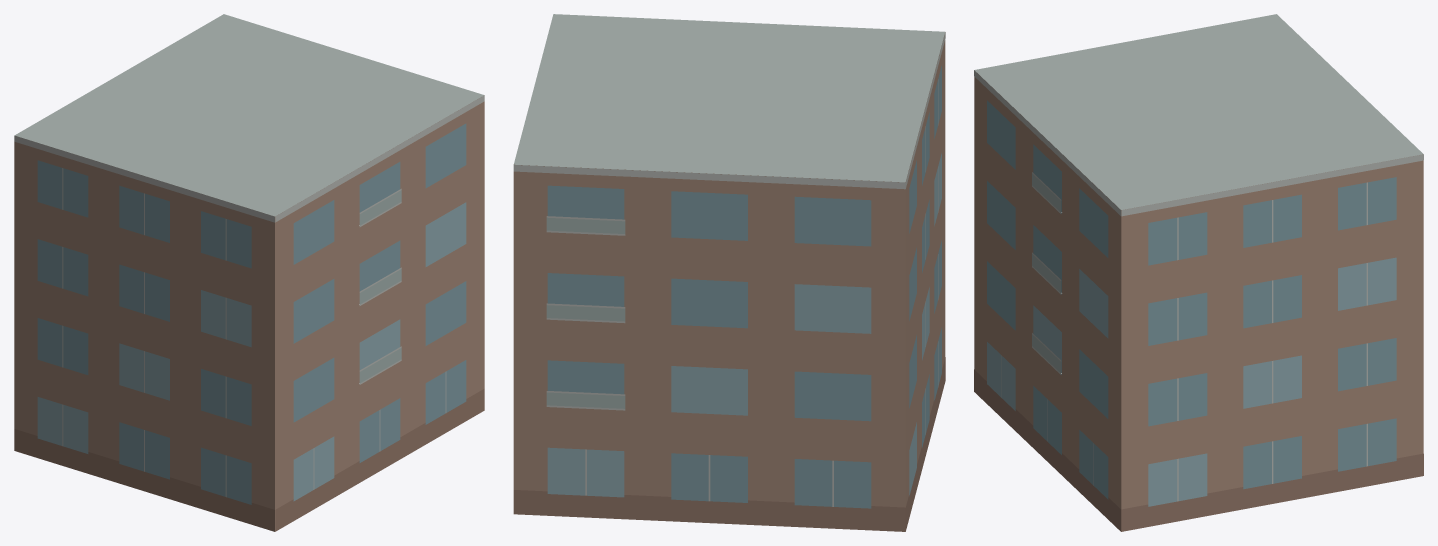
Rendered from survey-upis-32745675.glb.
3 views of the same model, side by side, from view 1: azimuth 30°, elevation 25°; view 2: azimuth 150°, elevation 25°; view 3: azimuth 270°, elevation 25° (orthographic). The views are drawn at different scales.
Parts seen in each view (by area): view 1: survey-upis-32745675.tmp; view 2: survey-upis-32745675.tmp; view 3: survey-upis-32745675.tmp.
Part boxes in pixels (x1,y1,x2,y2): survey-upis-32745675.tmp: (14,14,484,531); survey-upis-32745675.tmp: (513,14,945,531); survey-upis-32745675.tmp: (974,14,1423,531).
Size of the model in its own units: 16.36 by 12.5 by 15.84.
